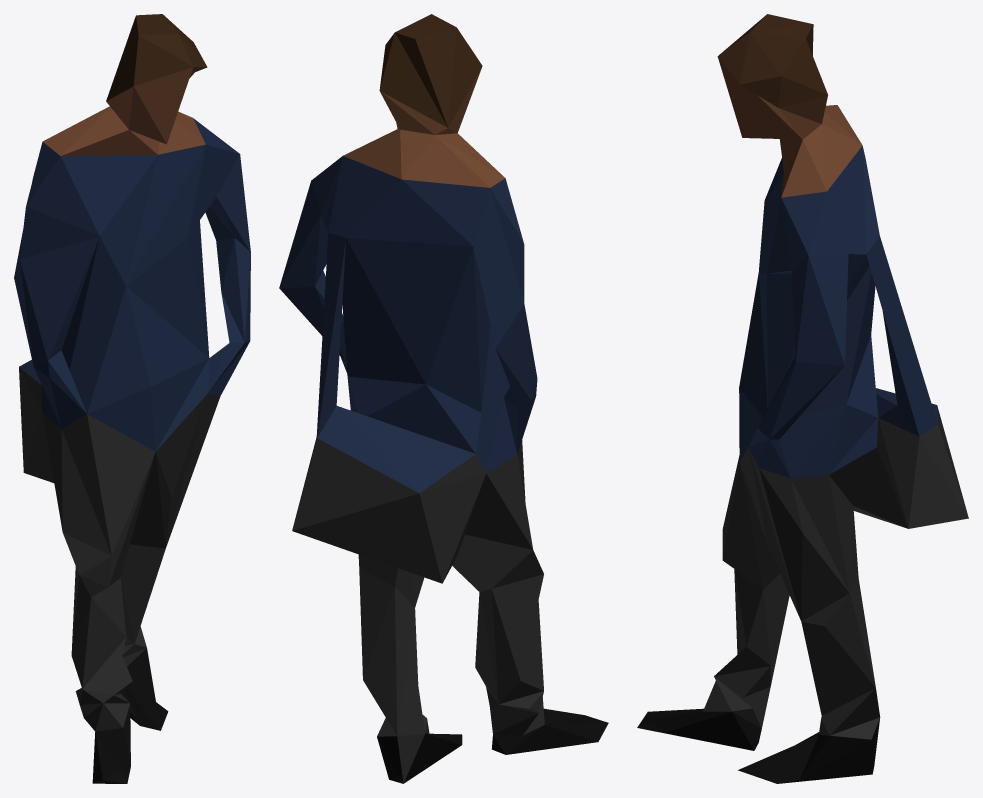
Rendered from walker-20.glb.
3 renders of one model, left to right at view 1: azimuth 30°, elevation 25°; view 2: azimuth 150°, elevation 25°; view 3: azimuth 270°, elevation 25°, orthographic. The views are drawn at different scales.
Parts seen in each view (by area): view 1: Man05; view 2: Man05; view 3: Man05.
Boxes of the visible parts, x1,y1,x2,y2 form: Man05: (14,14,250,783); Man05: (279,14,608,783); Man05: (637,14,968,783).
Size of the model in its own units: 0.5444 by 1.6 by 0.6335.
